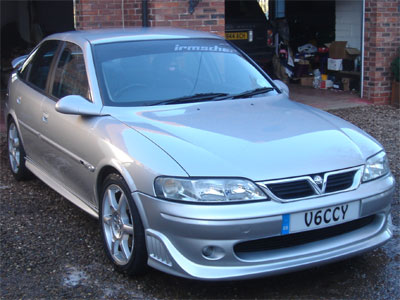licencePlate: (279, 197, 381, 235)
